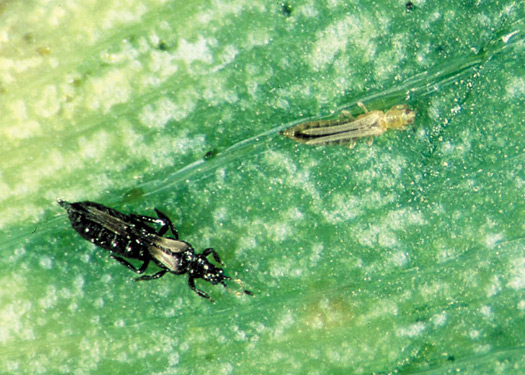Thrips: (49, 183, 242, 310), (269, 96, 438, 160)
